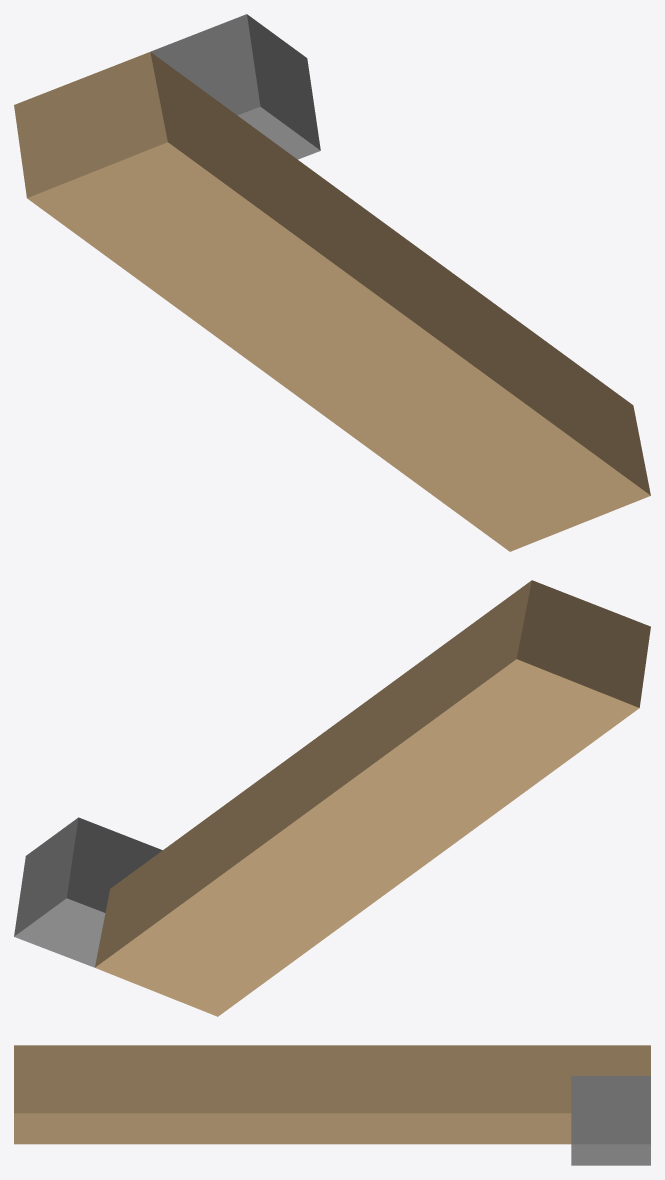
The picture shows the model from 3 angles, top to bottom: view 1: azimuth 30°, elevation 25°; view 2: azimuth 150°, elevation 25°; view 3: azimuth 270°, elevation 25°; orthographic projection. The views are drawn at different scales.
Parts seen in each view (by area): view 1: 0_1_3_2_1_1_1_3_3_1_1; view 2: 0_1_3_2_1_1_1_3_3_1_1; view 3: 0_1_3_2_1_1_1_3_3_1_1.
Boxes of the visible parts, box(x1,y1,x2,y2) form: 0_1_3_2_1_1_1_3_3_1_1: box(14, 14, 650, 551); 0_1_3_2_1_1_1_3_3_1_1: box(14, 580, 650, 1016); 0_1_3_2_1_1_1_3_3_1_1: box(14, 1045, 650, 1165).
Bounding box in the file's own units: 7.07 × 3.58 × 24.
